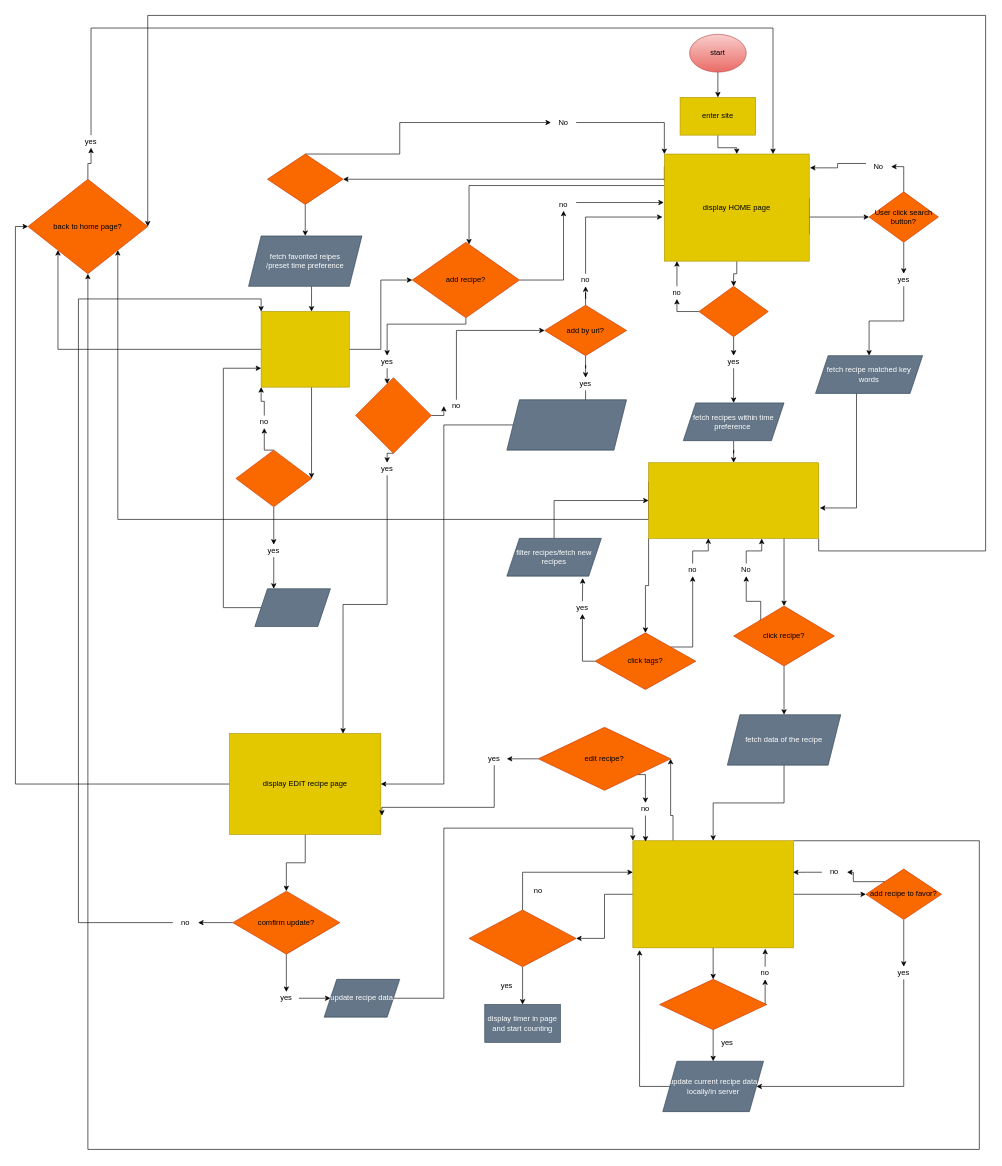
This 1002x1166 diagram has some shape labels left out. The centre of each missing label's shape, as x and y in pixels:
"delete favorited recipe?" belongs at (x=273, y=478).
"display FEED page" belongs at (x=733, y=500).
"display PROTAL page" belongs at (x=305, y=349).
"display RECIPE page" belongs at (x=712, y=894).
"enter comment?" belongs at (x=713, y=1004).
"manually add a recipe?" belongs at (x=393, y=415).
"scrape data from other recipe website" belongs at (x=566, y=424).
"update favorited recipe date" belongs at (x=292, y=607).
"User click PORTAL page?" belongs at (x=305, y=178).
"User enter time preference?" belongs at (x=733, y=311).
"user start timer?" belongs at (x=522, y=938).
